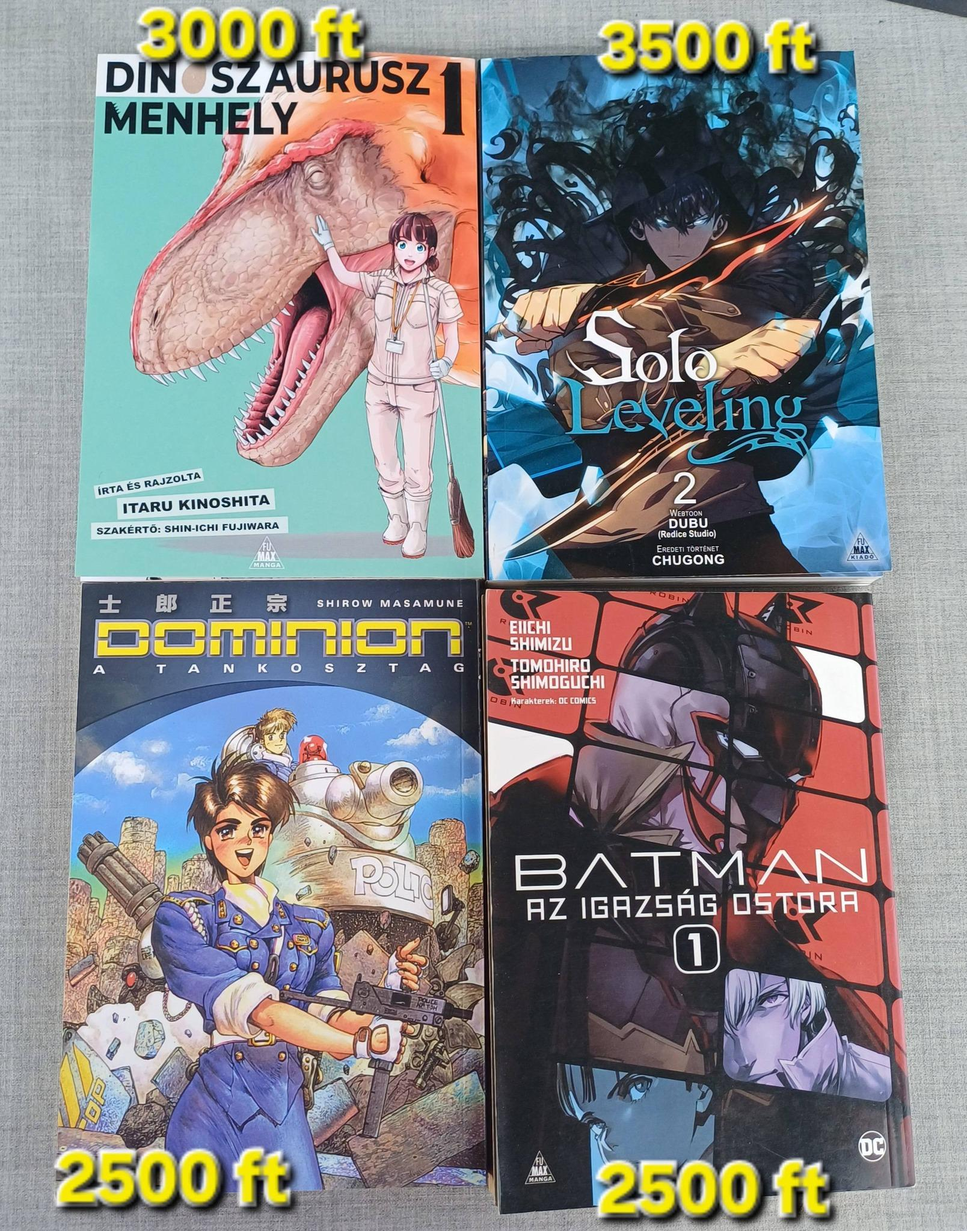comic: (454, 564, 914, 1214), (58, 581, 485, 1190), (478, 51, 889, 589), (76, 54, 482, 579)
